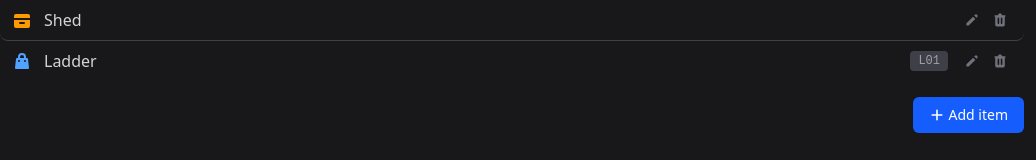
it: NodeBrowser › shows loading state when drilled into a node that is still fetching
The width and height of the screenshot is (1036, 160).
Click the button "Shed" at (63, 20), box [44,8,948,32]
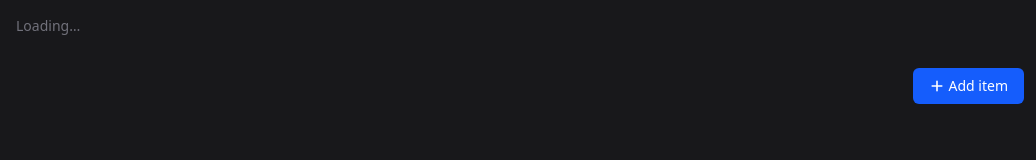
Result: the text "Loading…" is shown at [16,16,80,35]
